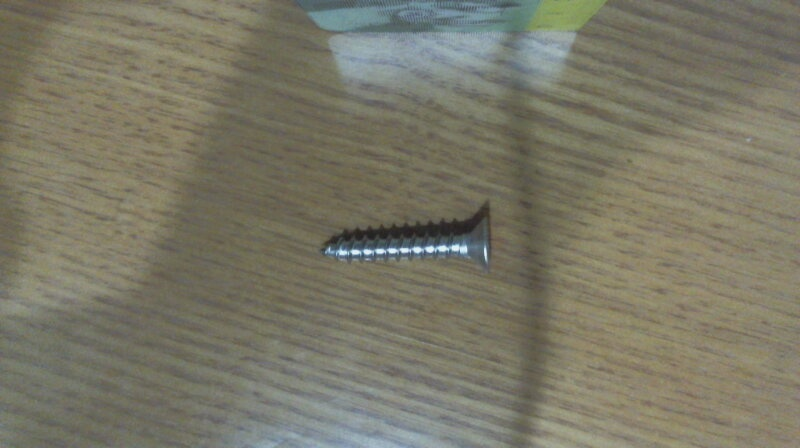S001: (317, 208, 494, 275)
